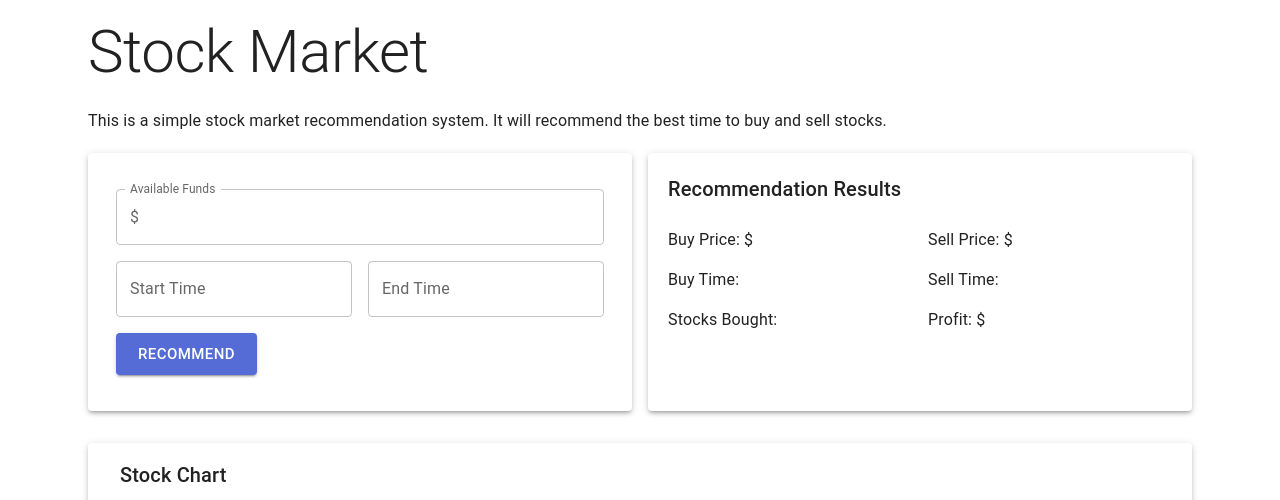
Test: StockRecommendation › displays required fields when recommendation is requested
# Submit the form and check that the fields display errors
Click the submit button at point(187, 354), box [116,333,257,375]
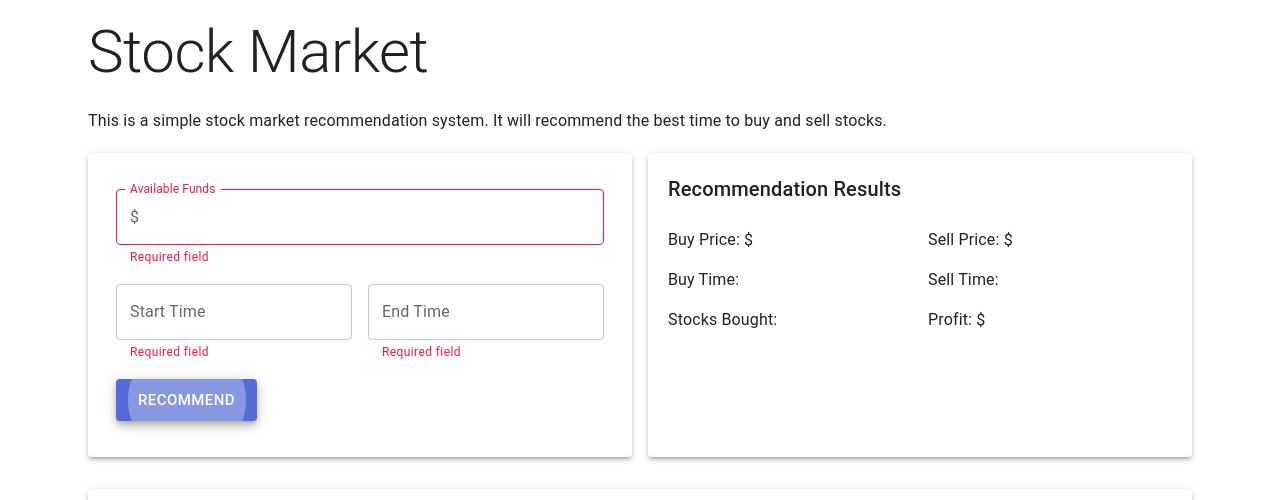
Check: the text "Required field" below "Available Funds" is shown, box [130,250,209,264]
